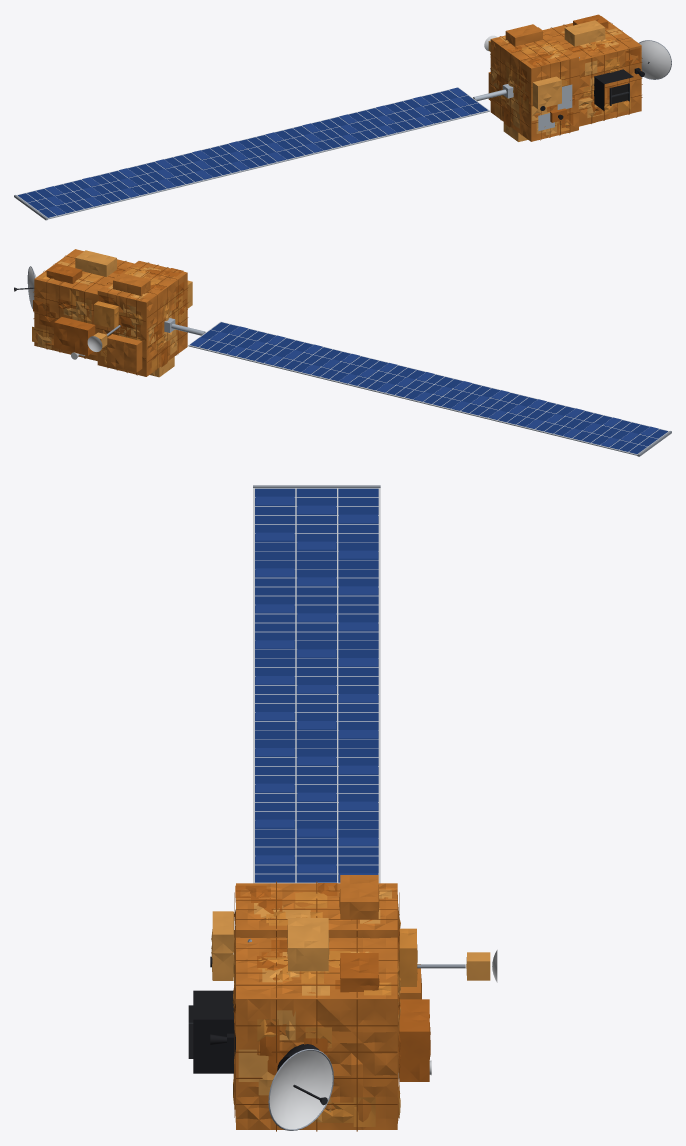
Rendered from midori-2.glb.
3 renders of one model, top to bottom at view 1: azimuth 30°, elevation 25°; view 2: azimuth 150°, elevation 25°; view 3: azimuth 270°, elevation 25°, orthographic. The views are drawn at different scales.
Parts seen in each view (by area): view 1: foil, solar-panel, body; view 2: foil, solar-panel, body; view 3: solar-panel, foil, body.
Part boxes in pixels (bbox=[...]): foil: bbox=[488, 14, 642, 141]; solar-panel: bbox=[18, 87, 488, 217]; body: bbox=[14, 35, 671, 220]; foil: bbox=[32, 249, 192, 377]; solar-panel: bbox=[190, 322, 667, 453]; body: bbox=[14, 266, 671, 456]; solar-panel: bbox=[255, 488, 378, 882]; foil: bbox=[211, 875, 490, 1131]; body: bbox=[188, 485, 497, 1130].
Bounding box in the file's own units: 34.21 × 4.88 × 7.25.
